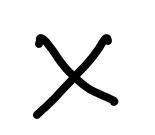mult: (31, 34, 118, 119)
